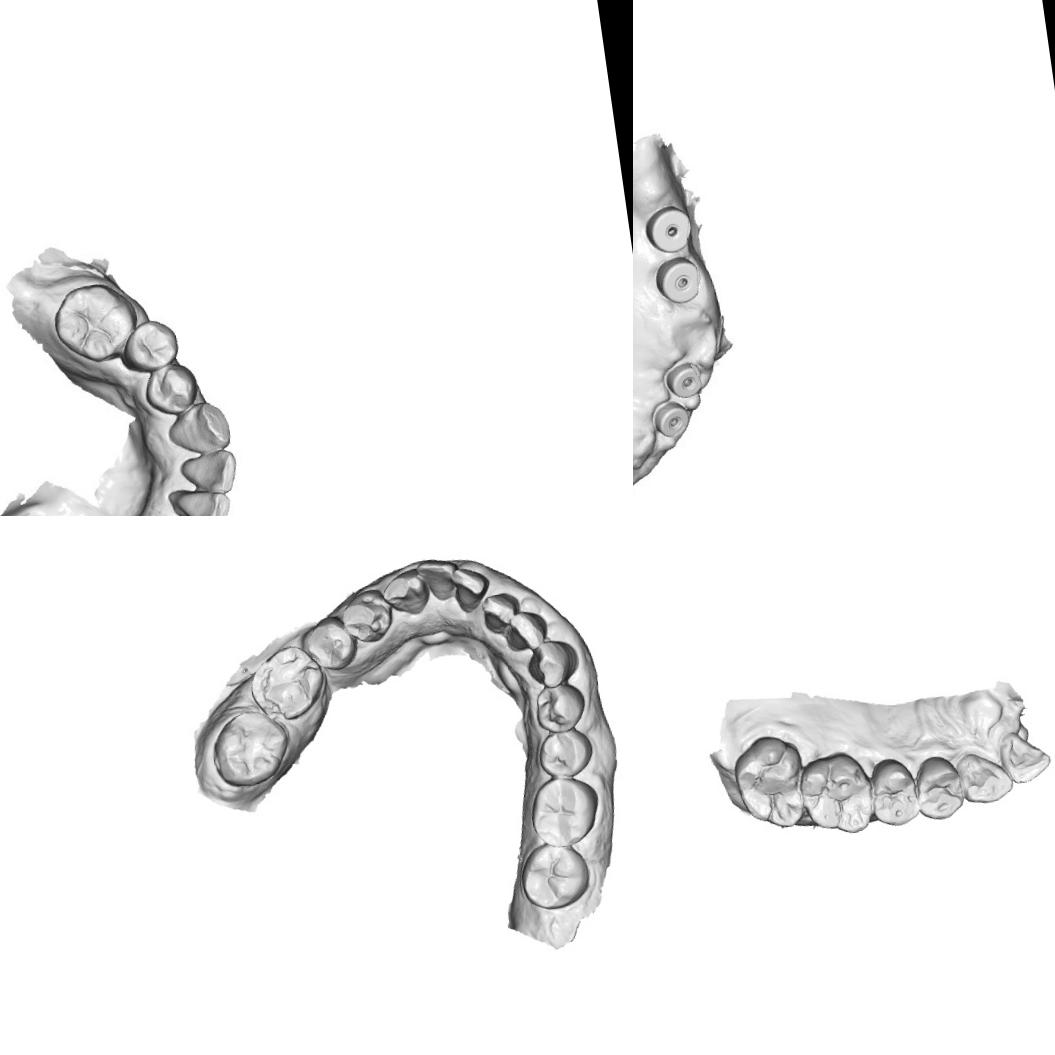canine: (954, 746, 1016, 808), (168, 403, 234, 461), (522, 636, 582, 691), (379, 565, 432, 619)
implant: (645, 204, 696, 258), (658, 256, 704, 304), (651, 397, 692, 440), (662, 360, 705, 400)
incisor: (996, 726, 1053, 786), (181, 444, 239, 502), (414, 555, 462, 605), (450, 563, 494, 616), (169, 480, 233, 516), (501, 606, 550, 653), (479, 589, 523, 637)
molar: (47, 276, 139, 372), (728, 731, 811, 834), (206, 704, 294, 792), (796, 749, 878, 840), (244, 642, 330, 727), (514, 834, 602, 912), (526, 772, 604, 852)
premolar: (865, 754, 922, 830), (139, 363, 207, 426), (298, 612, 362, 676), (912, 752, 966, 823), (337, 586, 396, 646), (534, 727, 597, 781), (532, 680, 589, 737), (127, 322, 185, 374)
